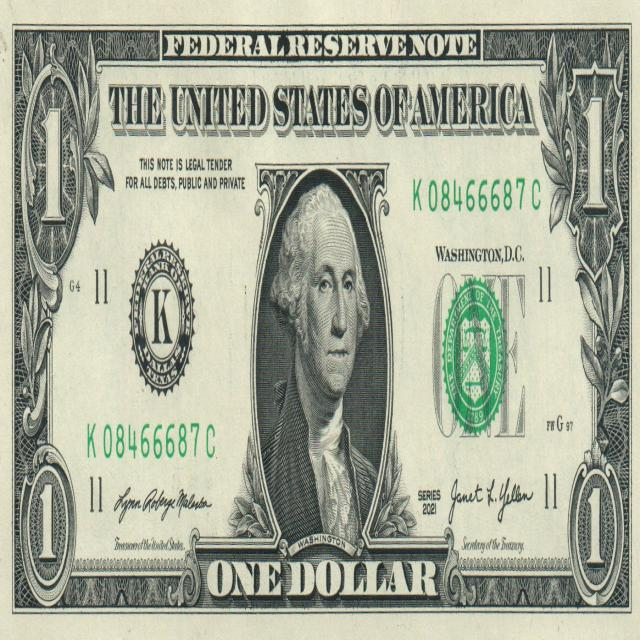SerialNumber: (87, 423, 215, 458), (414, 178, 540, 212)
